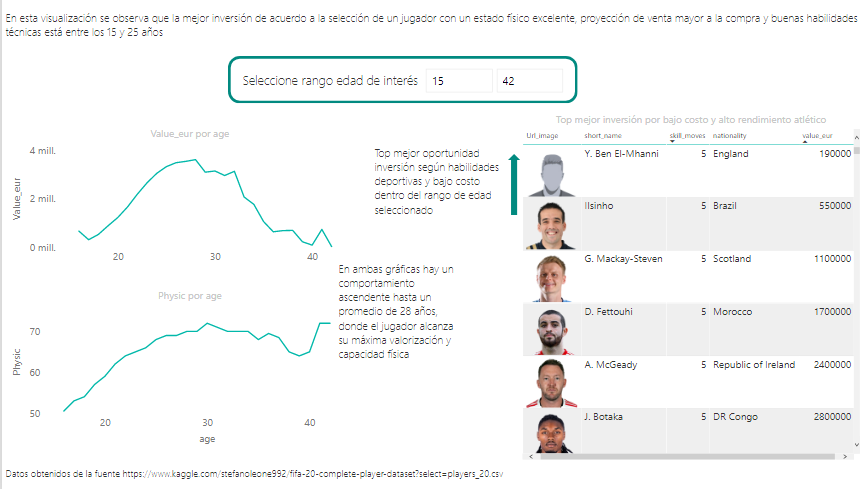

Layout of this report page (visuals, bound fields, positions):
{"tool":"powerbi","page":{"name":"Segmentación por edad","canvas":[1280,720],"ordinal":0},"visuals":[{"type":"lineChart","title":"Value_eur por age","fields":{"Category":["Fifa.age"],"Y":["Avg(Fifa.value_eur)1"]},"box":[9.9,176.4,534.9,213.1],"z":0},{"type":"tableEx","title":"Top mejor inversión por bajo costo y alto rendimiento atlético","fields":{"Values":["Fifa.Url_image","Fifa.short_name","Sum(Fifa.skill_moves)","Fifa.nationality","Sum(Fifa.value_eur)"]},"box":[763.7,155.3,508.7,518.8],"z":1000},{"type":"textbox","box":[0,674.6,914.8,44.9],"z":2000},{"type":"lineChart","title":"Physic por age","fields":{"Category":["Fifa.age"],"Y":["Median(Fifa.physic)"]},"box":[9.9,414.9,534.9,235.7],"z":3000},{"type":"slicer","fields":{"Values":["Fifa.age"]},"box":[613.9,81.9,358.5,66.3],"z":4000},{"type":"textbox","box":[0,0,1280,61.9],"z":5000},{"type":"textbox","box":[350.4,90.3,299.2,53.6],"z":6000},{"type":"textbox","box":[492.5,371.2,182.1,179.2],"z":7000},{"type":"shape","box":[748.6,217.1,17.7,89.6],"z":8000},{"type":"textbox","box":[545.3,199.4,203.2,135.1],"z":9000},{"type":"shape","box":[333.6,72.8,516.9,70.4],"z":10000}]}

Visuals, with their boxes in screenshot pixels (x1, y1, x2, y2), scaled from the page's 1280x720 canvas onto the 866x489 screenshot:
"Value_eur por age" lineChart: crop(7, 120, 369, 265)
"Top mejor inversión por bajo costo y alto rendimiento atlético" tableEx: crop(517, 105, 861, 458)
textbox: crop(0, 458, 619, 488)
"Physic por age" lineChart: crop(7, 282, 369, 442)
slicer - Fifa.age: crop(415, 56, 658, 101)
textbox: crop(0, 0, 865, 42)
textbox: crop(237, 61, 439, 98)
textbox: crop(333, 252, 456, 374)
shape: crop(506, 147, 518, 208)
textbox: crop(369, 135, 506, 227)
shape: crop(226, 49, 575, 97)
